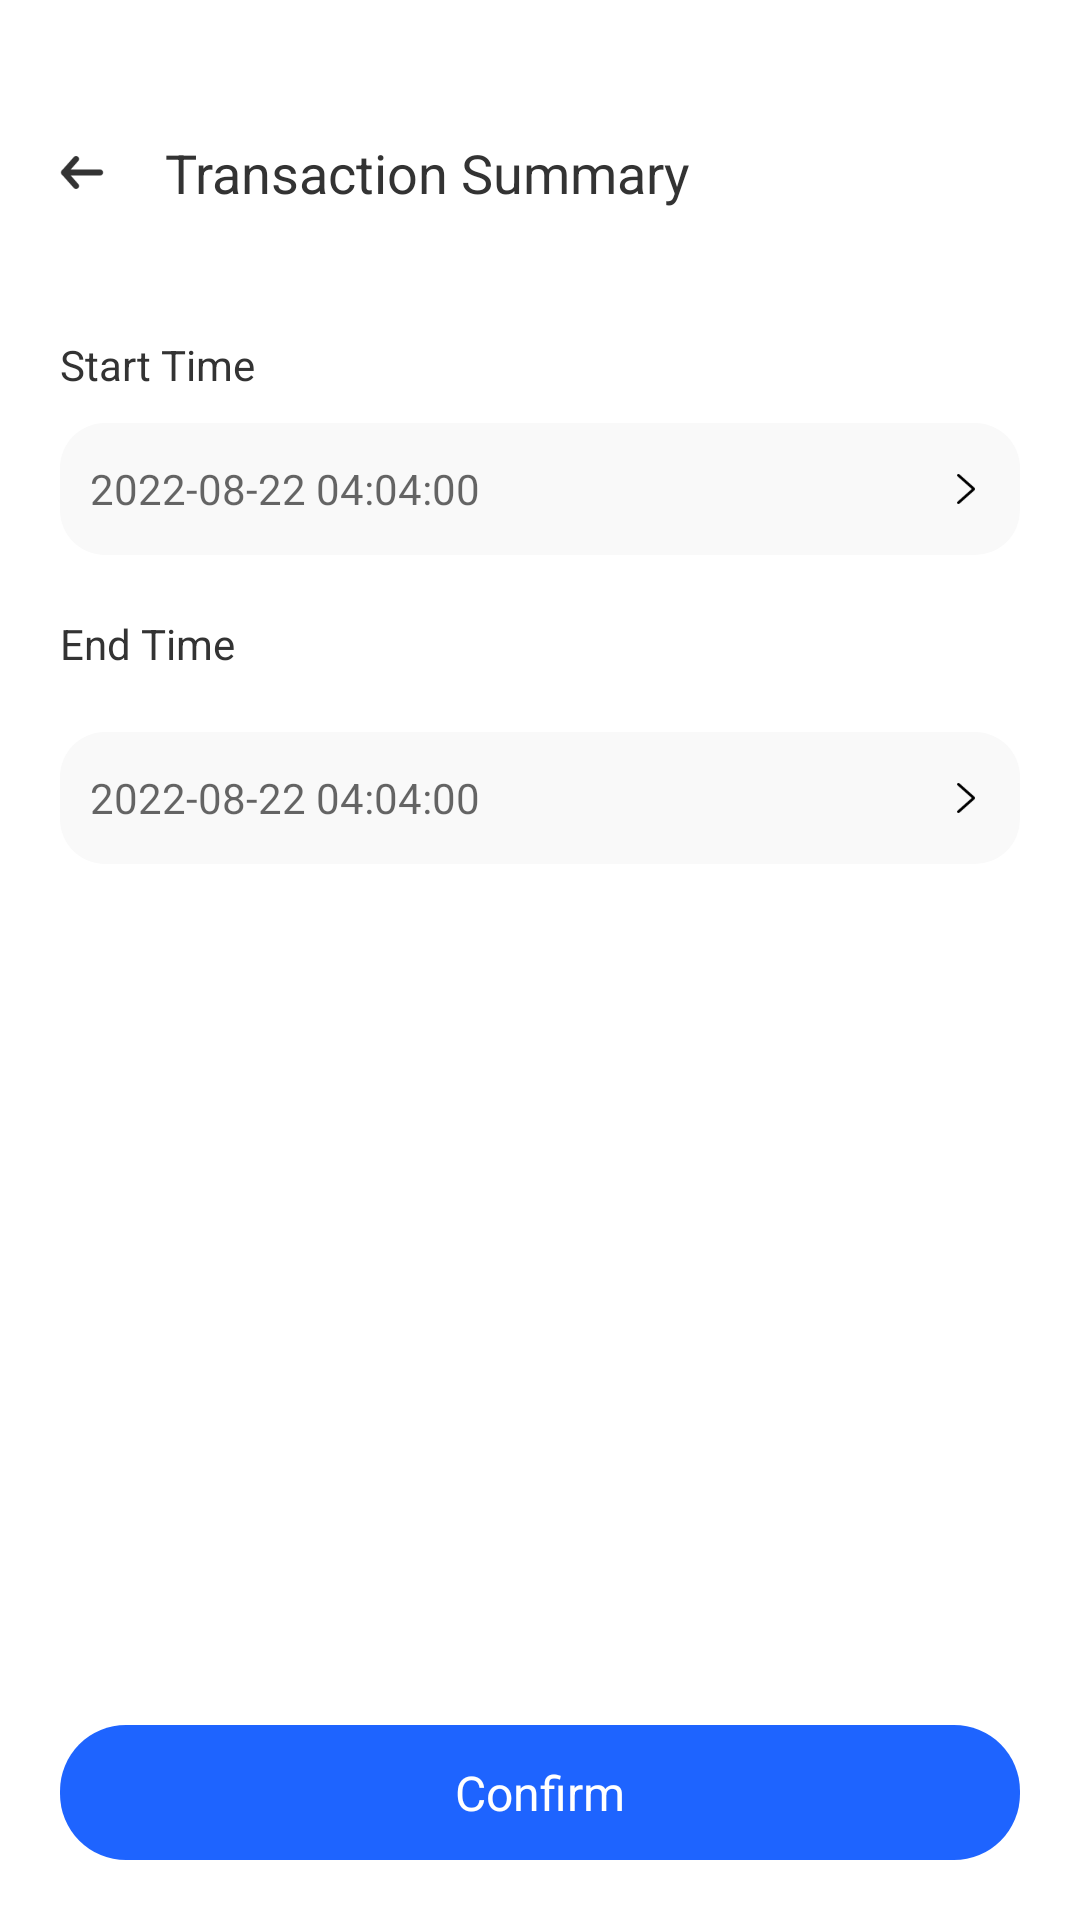

Where to tap for icons on this 1080 x 1920 app screen, as (x,y):
back: (82,172)
